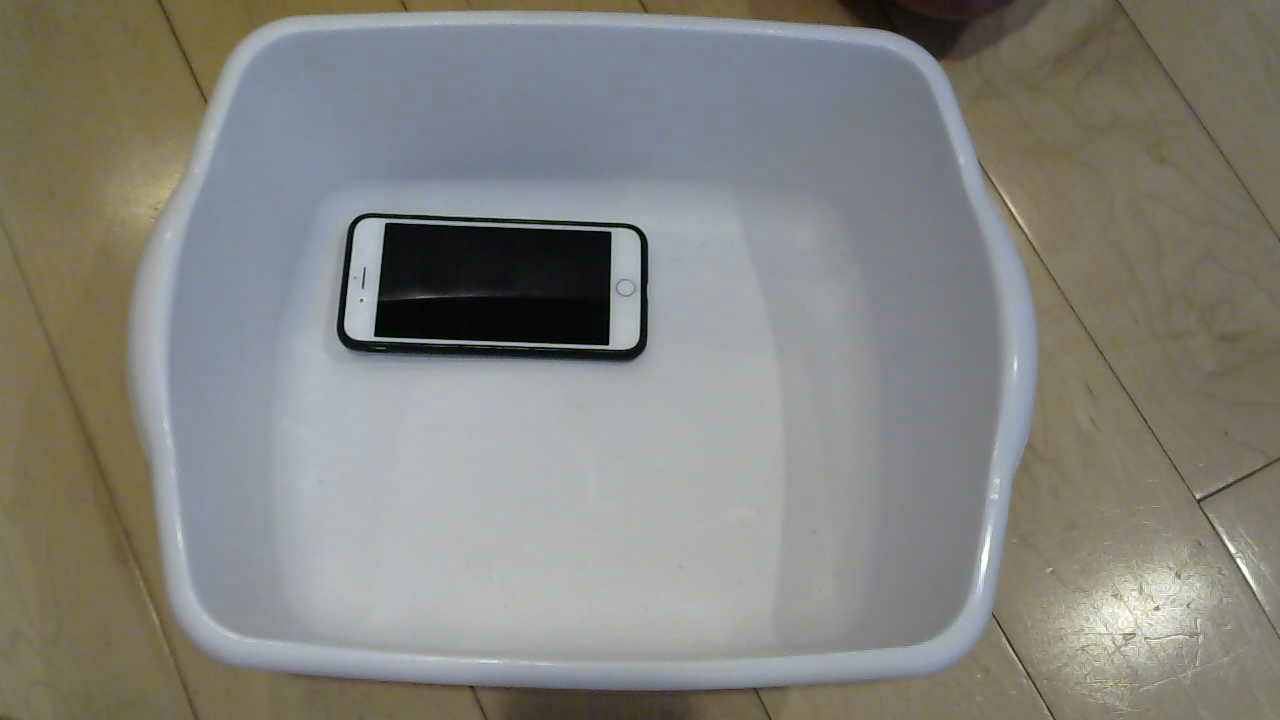phone: (307, 195, 681, 372)
